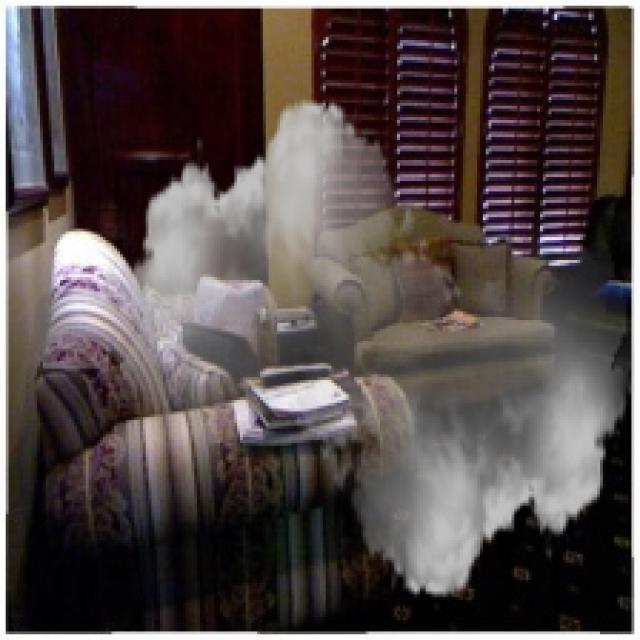Smoke: (115, 82, 634, 614)
